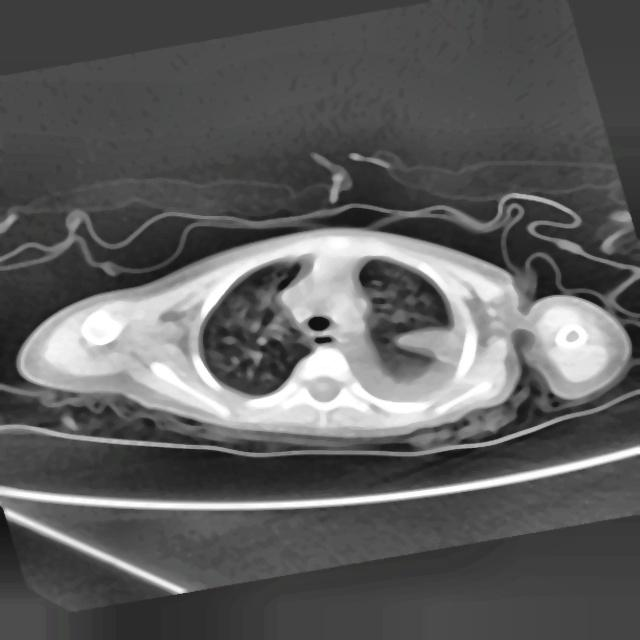covid: (14, 223, 631, 453)
